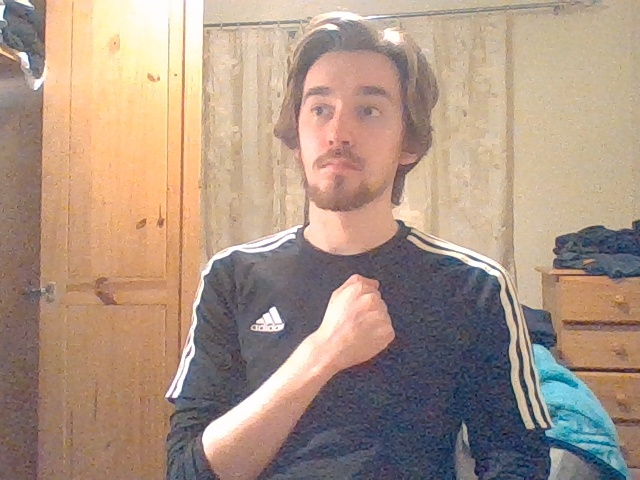my: (326, 273, 395, 360)
